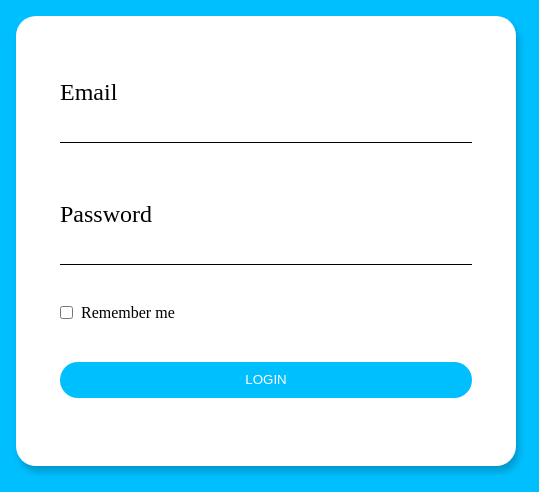
Test: renders invalid email error if email is not provided
Click the button "login".
click(266, 380)  # box [60,362,472,398]
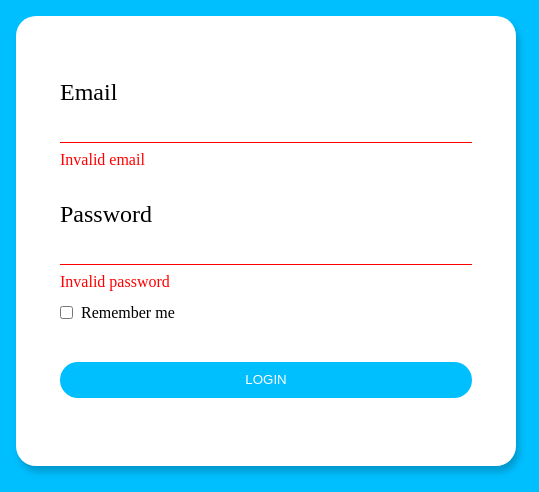
Result: the text "Invalid email" is shown at [60,151,145,168]
